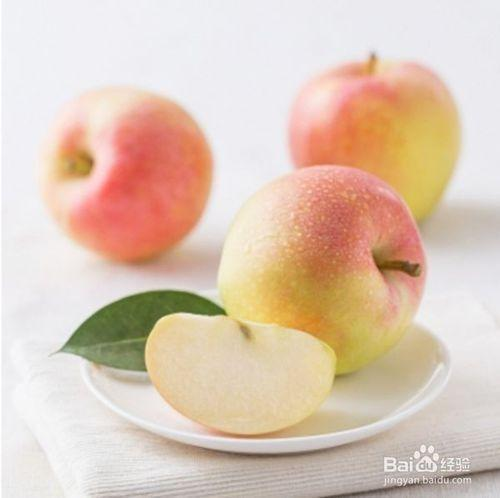apple: (220, 167, 431, 377), (38, 85, 213, 265), (283, 53, 466, 218), (145, 312, 333, 437)
